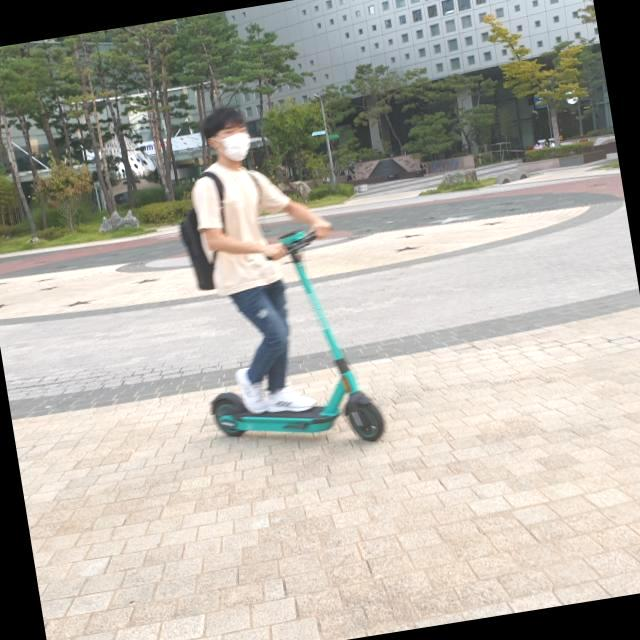bare_head: (181, 102, 272, 168)
human: (184, 86, 315, 414)
kickboard: (208, 369, 400, 464)
